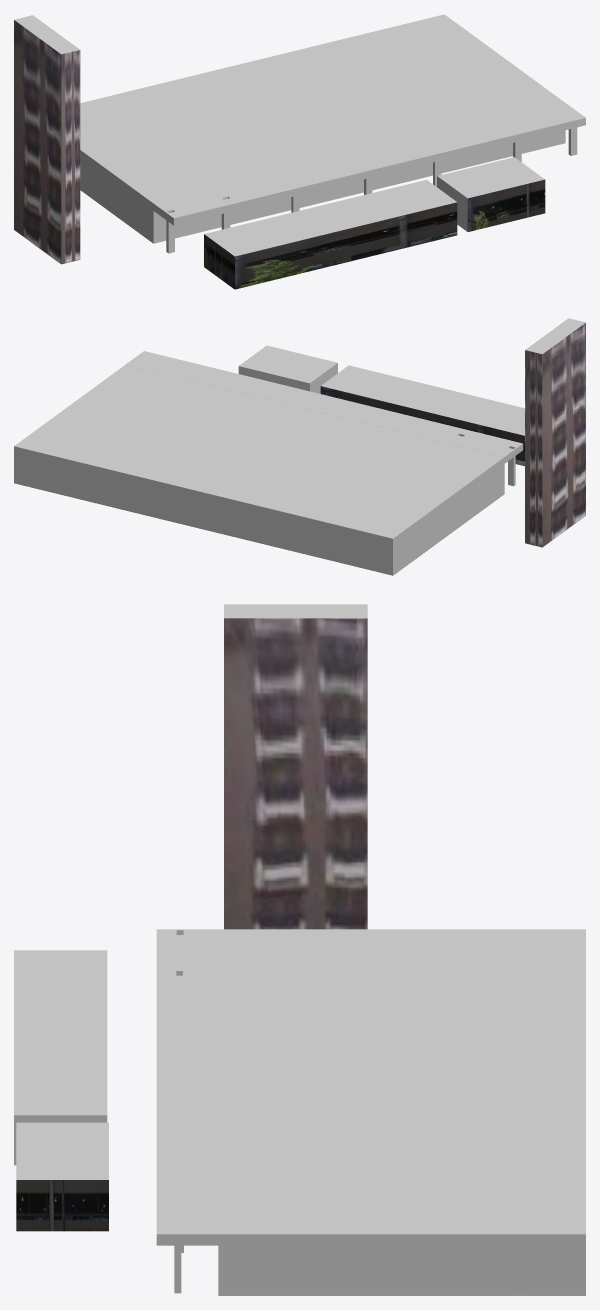
The model's file is HaifaUniversity.fbx.
3 views of the same model, one above another, from view 1: azimuth 30°, elevation 25°; view 2: azimuth 150°, elevation 25°; view 3: azimuth 270°, elevation 25° (orthographic). The views are drawn at different scales.
Visible parts, largest first — view 1: Model; view 2: Model; view 3: Model.
Boxes of the visible parts, <box> form: Model: <box>14,14,585,289</box>; Model: <box>14,318,585,575</box>; Model: <box>14,604,585,1295</box>.
Size of the model in its own units: 385 by 154 by 250.
Materials: 11 (10 with a texture image).
